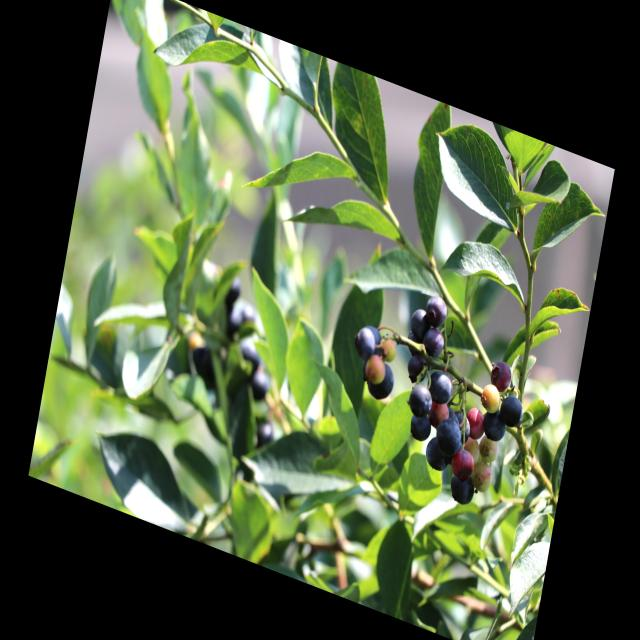blueberry: (434, 416, 464, 458), (367, 358, 395, 402), (426, 366, 456, 406), (497, 390, 526, 430), (423, 292, 452, 331), (448, 469, 477, 508), (420, 320, 447, 361), (423, 435, 451, 473), (407, 381, 434, 419), (482, 404, 508, 443), (407, 408, 433, 444), (353, 324, 377, 362), (405, 350, 428, 387), (488, 357, 512, 392), (410, 307, 430, 341), (453, 411, 472, 446)
blueberry-halfripe: (449, 445, 476, 484), (463, 404, 488, 442), (426, 398, 452, 432)
blueberry-unripe: (470, 459, 494, 494), (479, 382, 503, 417), (477, 433, 501, 467), (364, 353, 387, 387), (463, 435, 482, 466), (380, 337, 398, 364)
